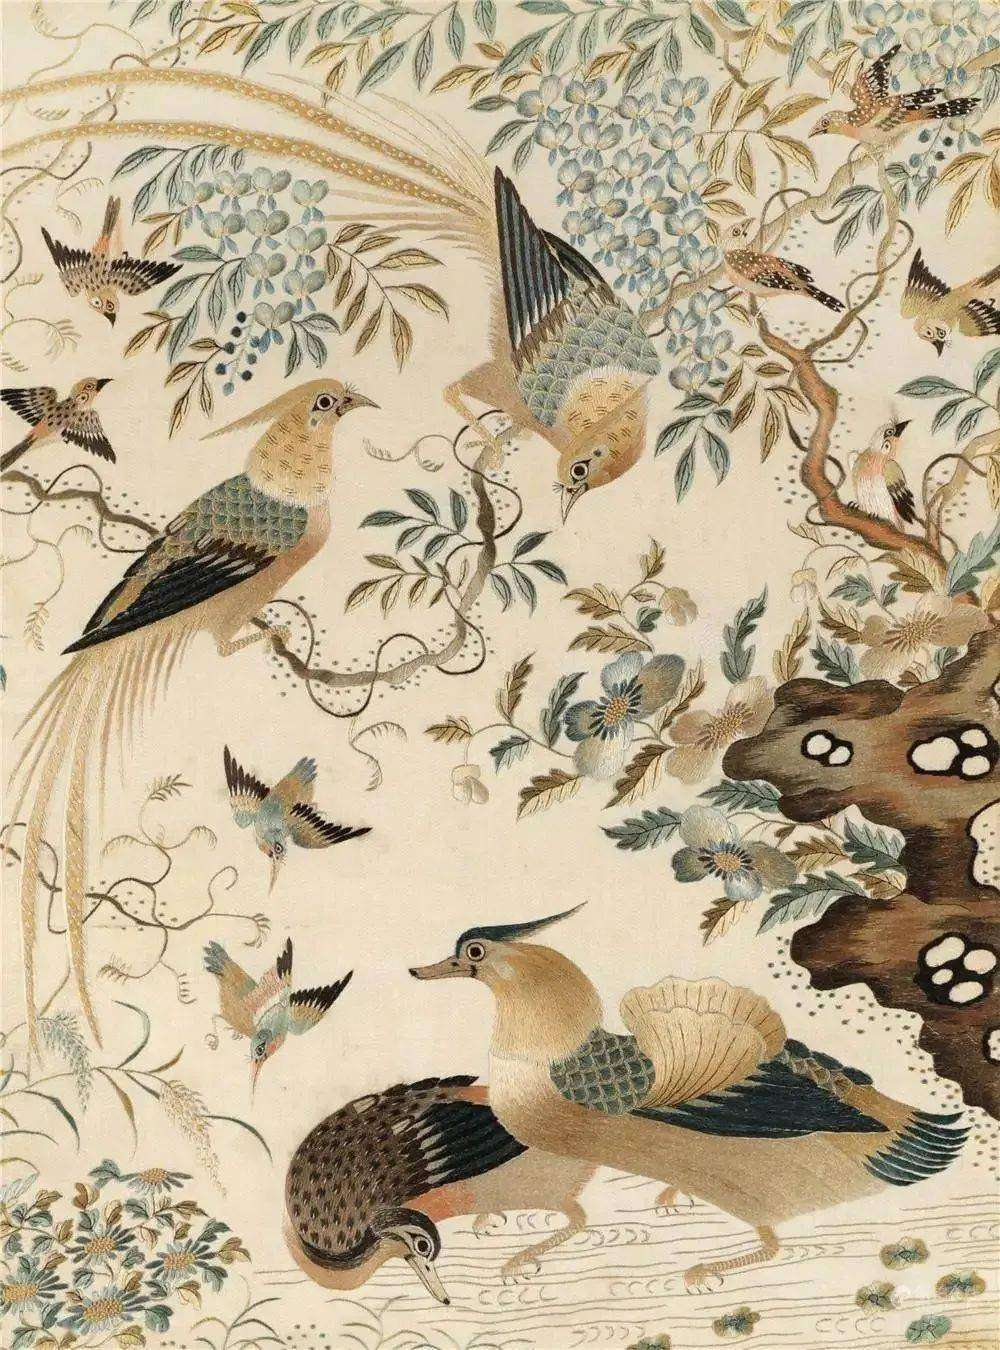bird: (4, 59, 662, 527), (1, 371, 386, 1069), (205, 738, 370, 892), (205, 941, 354, 1096), (807, 47, 981, 155), (44, 192, 179, 328), (711, 214, 850, 324), (1, 375, 125, 479), (903, 243, 1000, 352), (845, 414, 923, 529)
flower: (559, 649, 690, 778), (665, 802, 803, 907), (664, 673, 777, 773)
